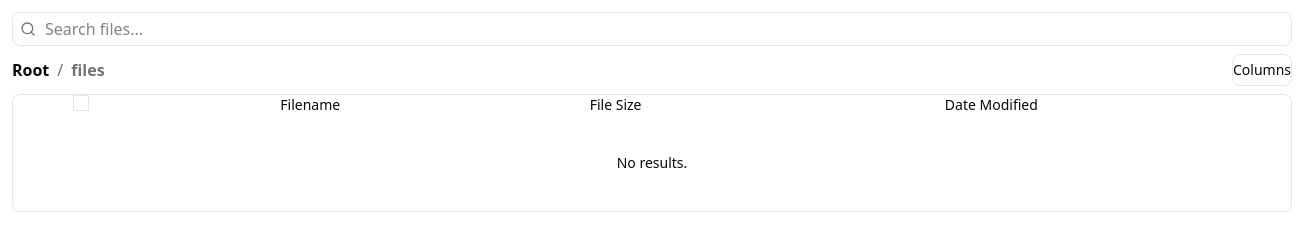
Test case: Search Integration › Search Results Display › clears search when clear button is clicked
The image size is (1304, 229).
Type "document" into the field with placeholder "Search files..." at (652, 29), box [12,12,1292,46]
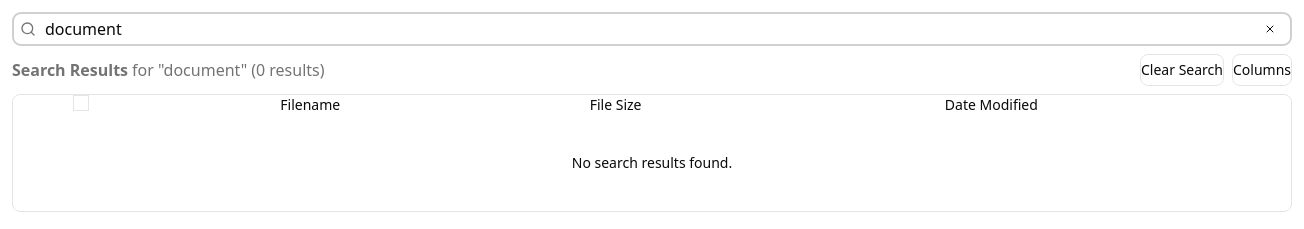
expect the button "Clear Search" is shown: met, box [1140,54,1224,86]
Click the button named "Clear search" at (1276, 29), box [1264,17,1288,41]
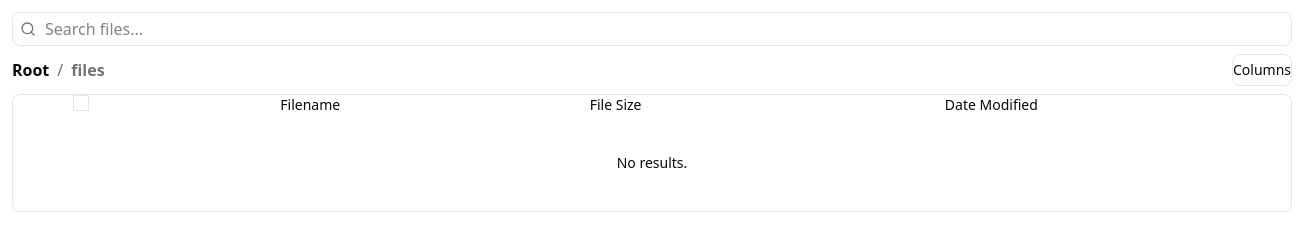
expect the button "Clear Search" is gone: met
expect the text "Search Results" is gone: met
expect the field with placeholder "Search files..." is empty: met, box [12,12,1292,46]
